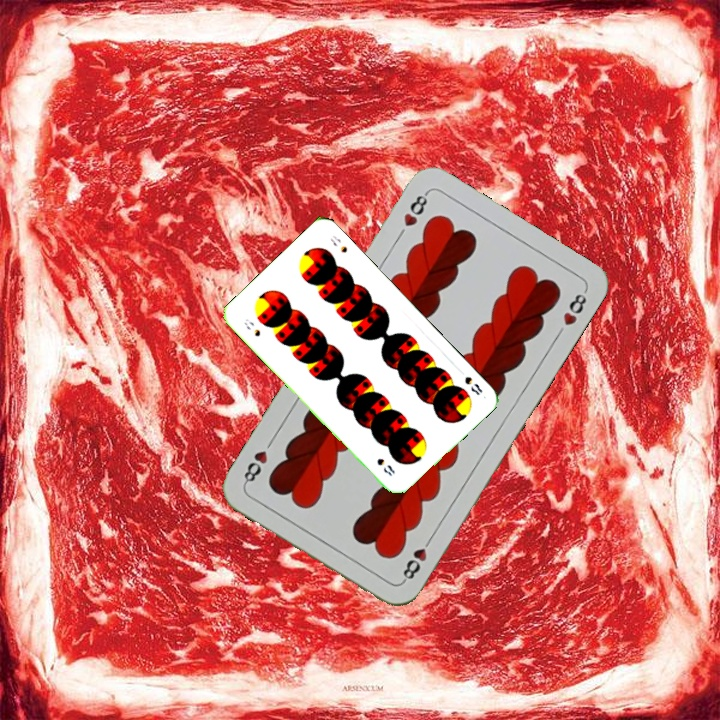H8: (398, 532, 435, 585), (399, 187, 431, 230)
S8: (460, 372, 485, 398), (240, 315, 263, 339)
